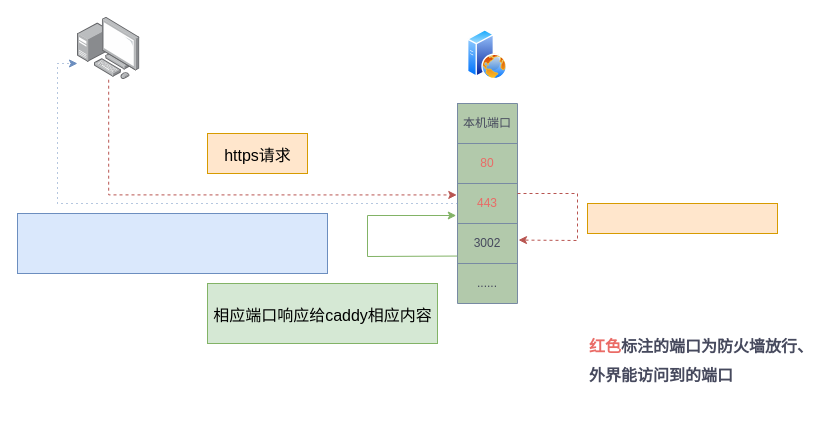
This 831x421 diagram has some shape labels left out. Each missing label, with the box of its shape:
caddy将相应端口的响应内容响应给请求方: (16, 212, 328, 274)
反向代理服务器转发请求: (586, 202, 778, 234)
